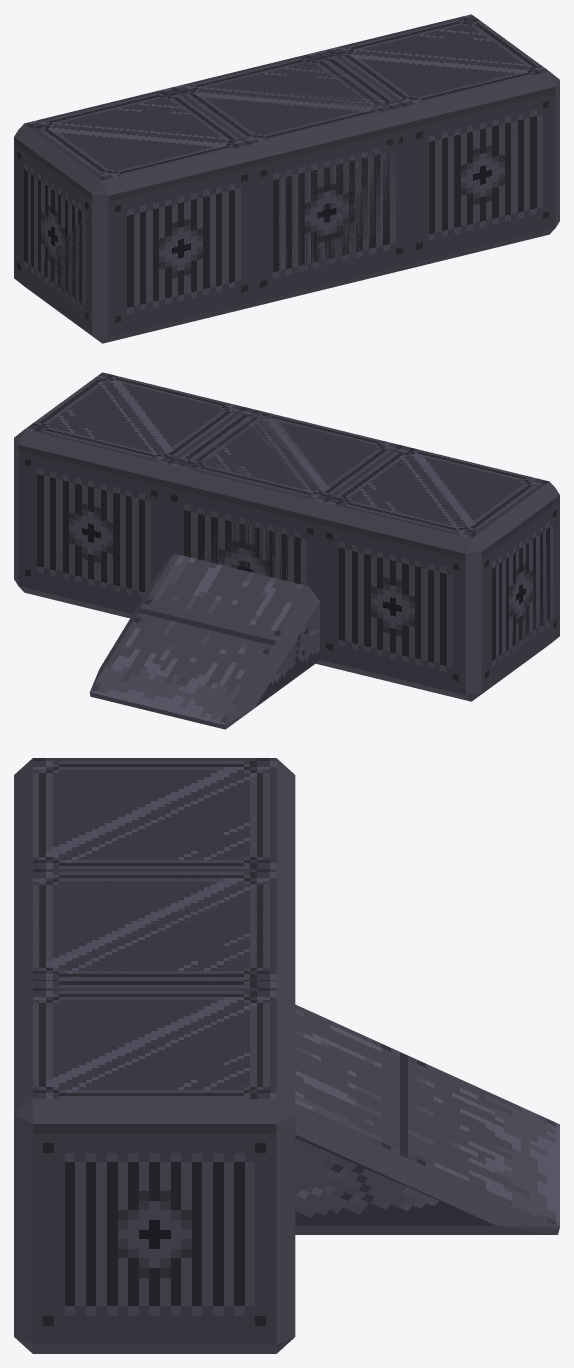
Rendered from hull.glb.
The picture shows the model from 3 angles, top to bottom: view 1: azimuth 30°, elevation 25°; view 2: azimuth 150°, elevation 25°; view 3: azimuth 270°, elevation 25°; orthographic projection. The views are drawn at different scales.
Visible parts, largest first — view 1: hull_block2, hull_block3, hull_half2, hull_half; view 2: hull_block2, hull_block3, hull_wedge2, hull_half2; view 3: hull_block3, hull_block2, hull_wedge2.
Boxes of the visible parts, bbox=[...] form: hull_block2: bbox=[14, 52, 399, 343]; hull_block3: bbox=[172, 14, 559, 307]; hull_half2: bbox=[22, 196, 108, 336]; hull_half: bbox=[259, 126, 397, 305]; hull_block2: bbox=[178, 410, 559, 701]; hull_block3: bbox=[14, 372, 401, 660]; hull_wedge2: bbox=[89, 553, 319, 729]; hull_half2: bbox=[475, 512, 559, 698]; hull_block3: bbox=[14, 869, 295, 1353]; hull_block2: bbox=[14, 758, 295, 989]; hull_wedge2: bbox=[295, 1004, 559, 1234].
Size of the model in its own units: 3 by 1 by 1.94.
Materials: 1 (1 with a texture image).
